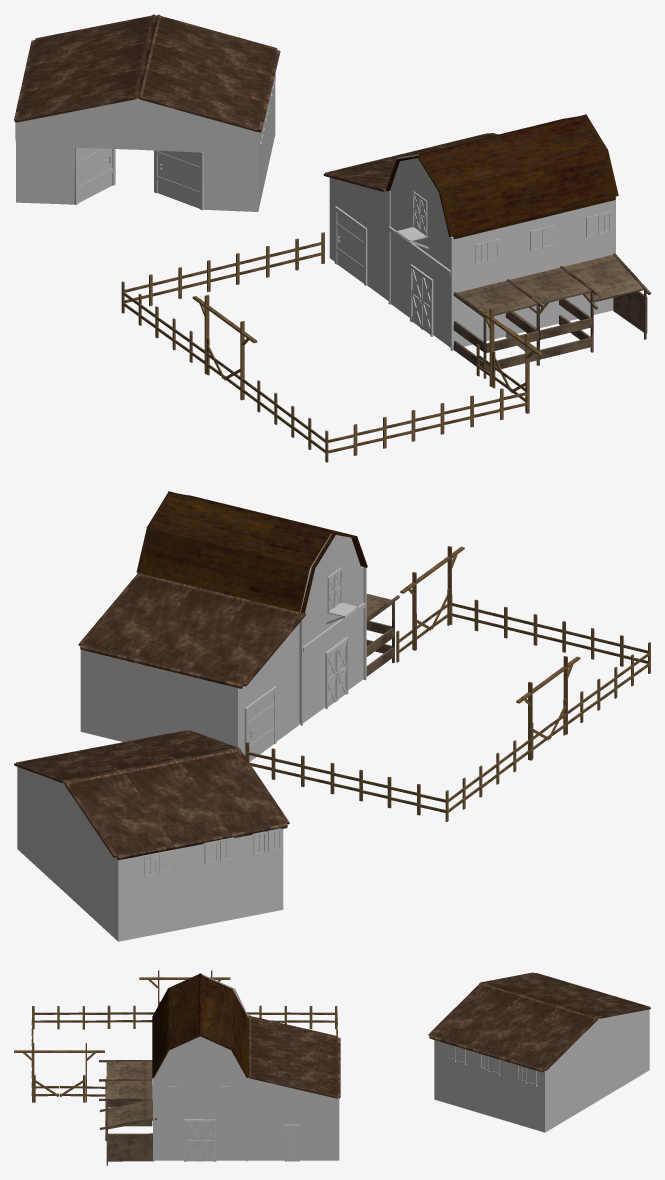
Rendered from barn.obj.
The picture shows the model from 3 angles, top to bottom: view 1: azimuth 30°, elevation 25°; view 2: azimuth 150°, elevation 25°; view 3: azimuth 270°, elevation 25°; orthographic projection. The views are drawn at different scales.
Visible parts, largest first — view 1: Granja_2; view 2: Granja_2; view 3: Granja_2.
Part boxes in pixels (x1,y1,x2,y2): Granja_2: (14,14,650,462); Granja_2: (14,491,650,941); Granja_2: (14,970,650,1165).
Bounding box in the file's own units: 38.06 × 17.35 × 75.52.
